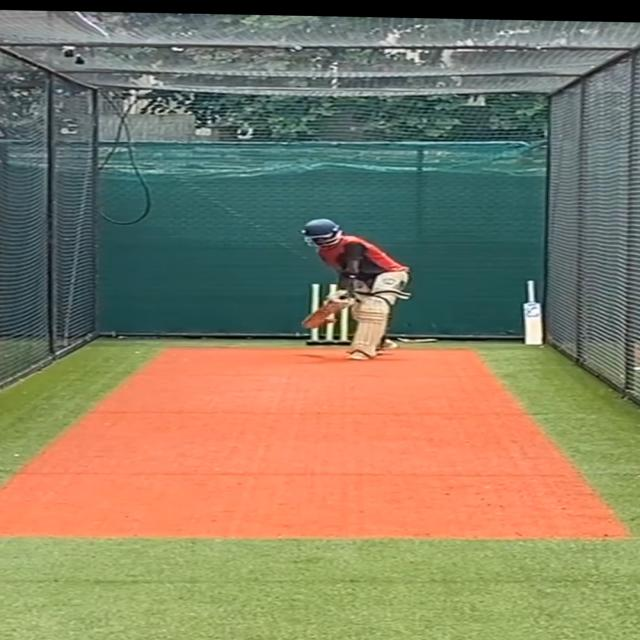ball: (322, 316, 339, 327)
stump: (306, 278, 353, 348)
